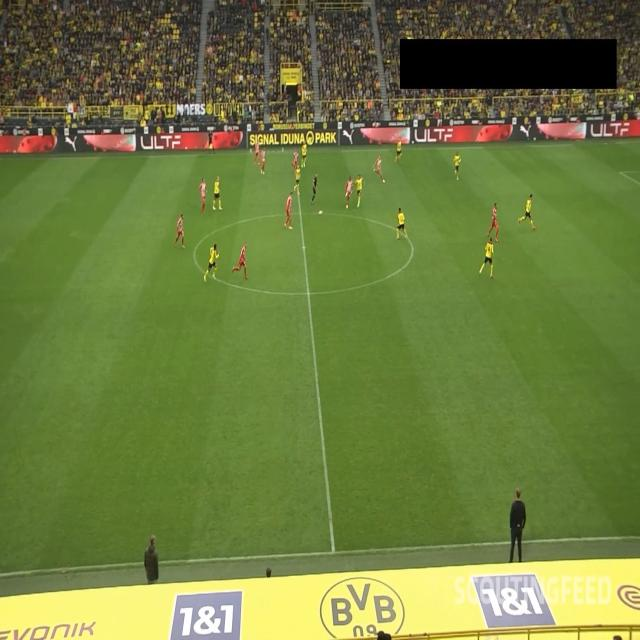ball: (318, 209, 323, 216)
